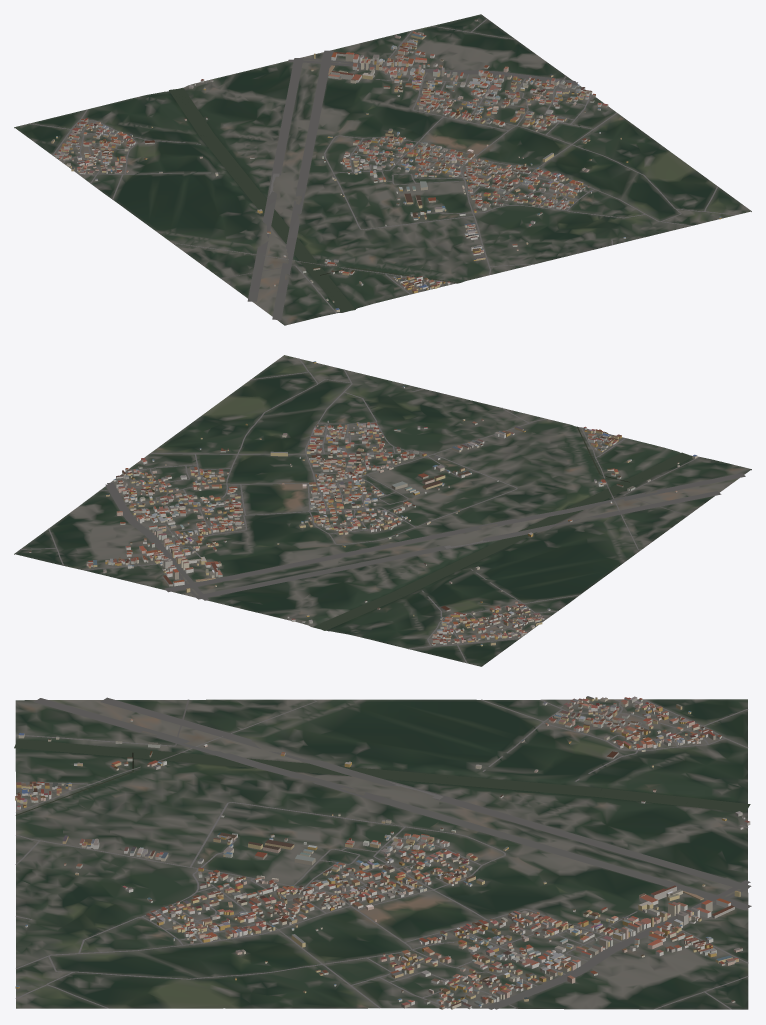
3 views of the same model, one above another, from view 1: azimuth 30°, elevation 25°; view 2: azimuth 150°, elevation 25°; view 3: azimuth 270°, elevation 25° (orthographic). The views are drawn at different scales.
Parts seen in each view (by area): view 1: ground, buildings, roads, water; view 2: ground, buildings, roads, water; view 3: ground, buildings, roads, water.
Part boxes in pixels (x1,y1,x2,y2): ground: (14, 14, 751, 325); buildings: (51, 19, 721, 311); roads: (28, 18, 737, 319); water: (169, 88, 459, 312); ground: (14, 355, 751, 666); buildings: (29, 361, 697, 646); roads: (20, 358, 745, 663); water: (314, 426, 692, 630); ground: (15, 699, 748, 1009); buildings: (15, 696, 750, 1009); roads: (15, 697, 751, 1009); water: (14, 739, 750, 815).
Bounding box in the file's own units: 1414 × 28.55 × 1413.
